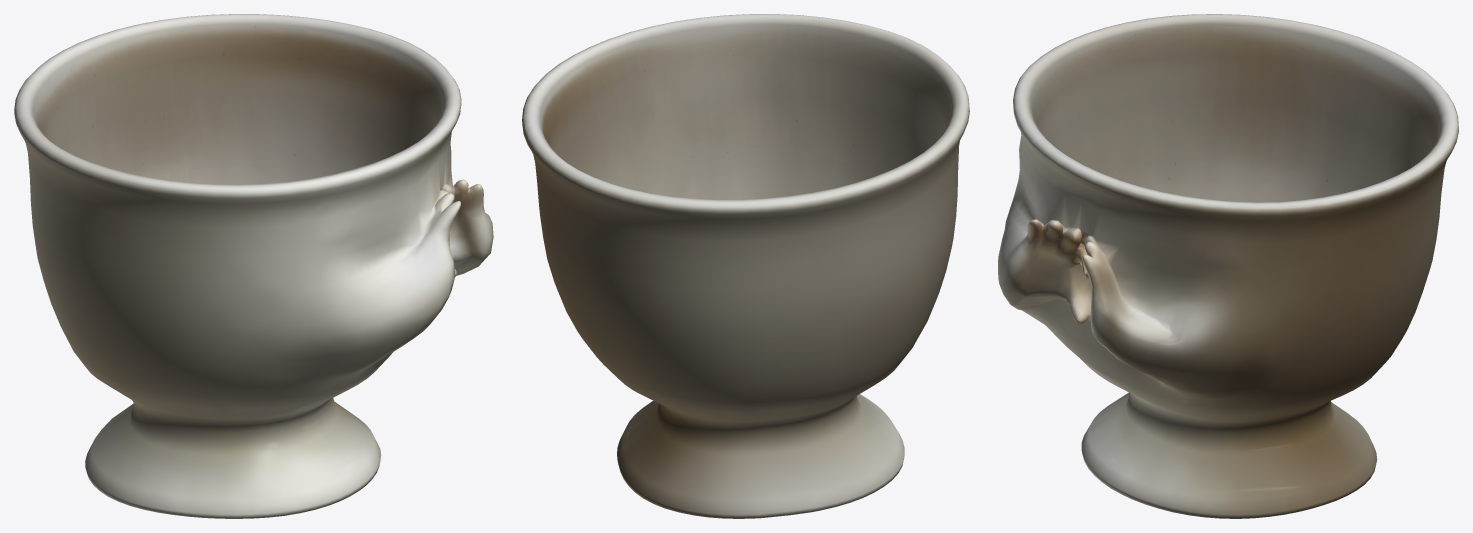
The model's file is 陶瓷杯.glb.
3 views of the same model, side by side, from view 1: azimuth 30°, elevation 25°; view 2: azimuth 150°, elevation 25°; view 3: azimuth 270°, elevation 25° (orthographic). The views are drawn at different scales.
Parts seen in each view (by area): view 1: tripo_05a6dc54_21e5_47e7_87cd_12151469f775; view 2: tripo_05a6dc54_21e5_47e7_87cd_12151469f775; view 3: tripo_05a6dc54_21e5_47e7_87cd_12151469f775.
Part boxes in pixels (bbox=[...]): tripo_05a6dc54_21e5_47e7_87cd_12151469f775: bbox=[14, 14, 493, 518]; tripo_05a6dc54_21e5_47e7_87cd_12151469f775: bbox=[522, 14, 969, 518]; tripo_05a6dc54_21e5_47e7_87cd_12151469f775: bbox=[998, 14, 1458, 518].
Size of the model in its own units: 0.9804 by 0.8752 by 1.
Materials: 1 (1 with a texture image).
